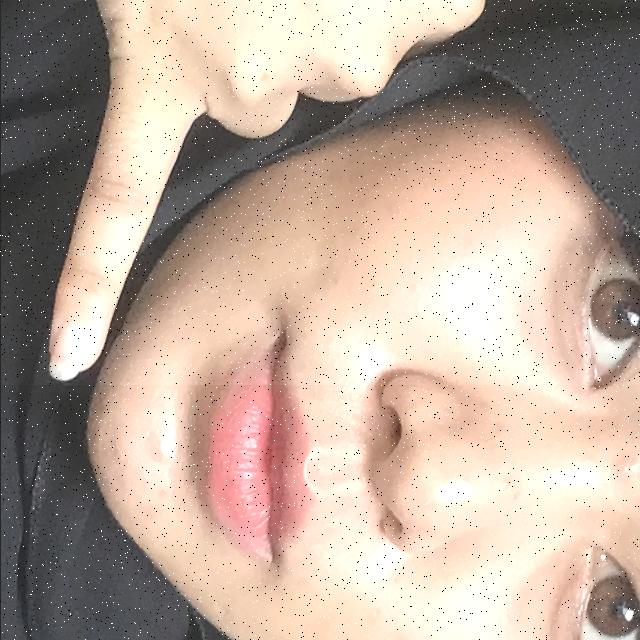telpon: (0, 0, 640, 385)
